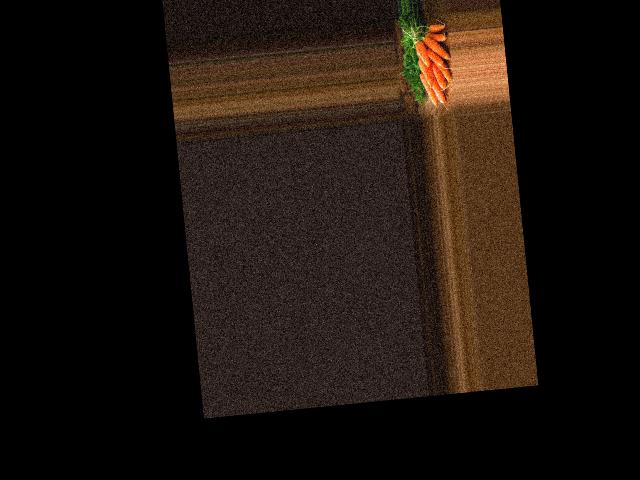carrot: (426, 21, 445, 33)
